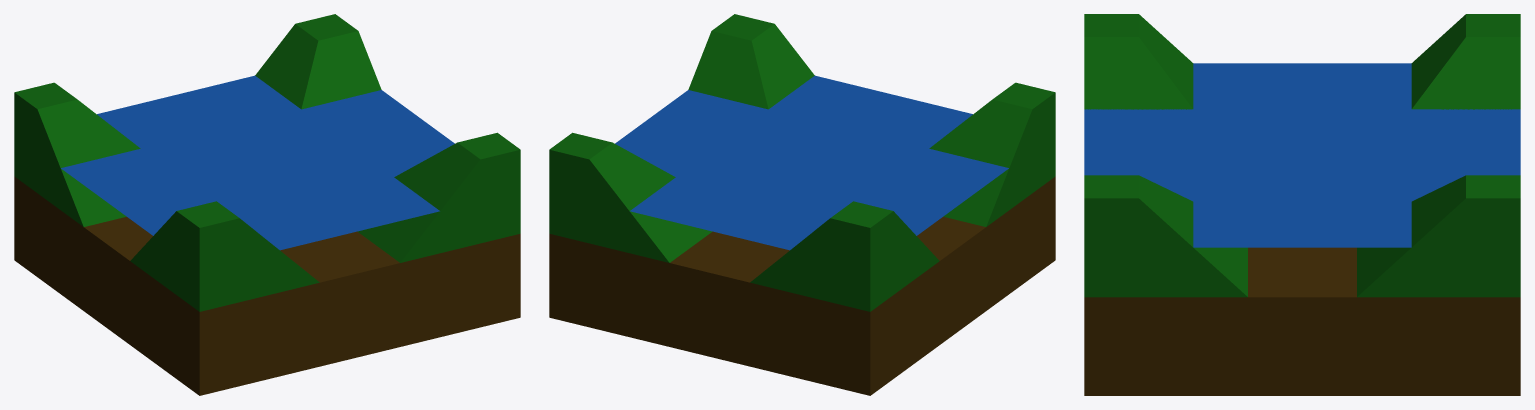
Rendered from river-crossing.obj.
The picture shows the model from 3 angles, left to right: view 1: azimuth 30°, elevation 25°; view 2: azimuth 150°, elevation 25°; view 3: azimuth 270°, elevation 25°; orthographic projection. The views are drawn at different scales.
Parts seen in each view (by area): view 1: dirt, grass, water; view 2: dirt, grass, water; view 3: water, grass, dirt.
Boxes of the visible parts, box(x1,y1,x2,y2) form: dirt: box(14, 176, 520, 395); grass: box(14, 14, 520, 311); water: box(61, 75, 454, 250); dirt: box(549, 176, 1055, 395); grass: box(549, 14, 1055, 311); water: box(615, 75, 1008, 250); water: box(1084, 63, 1520, 247); grass: box(1084, 14, 1520, 297); dirt: box(1084, 247, 1520, 395).
Bounding box in the file's own units: 0.25 × 0.125 × 0.25.
Materials: 1 (1 with a texture image).
